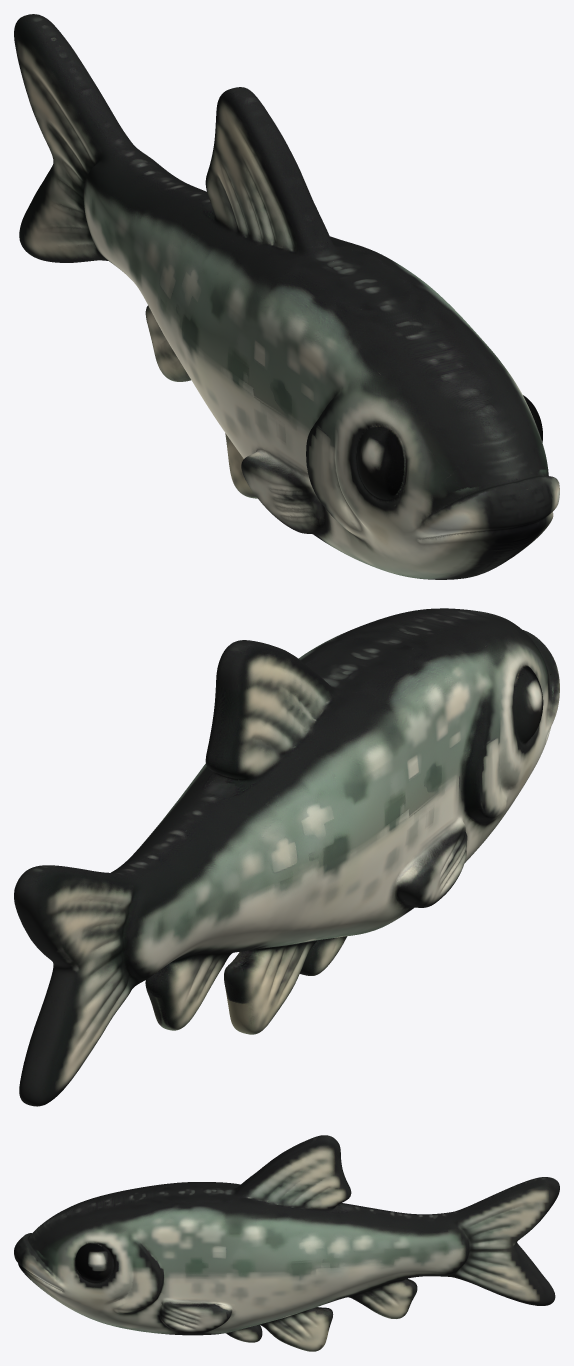
Rendered from Vairon.fbx.
3 renders of one model, top to bottom at view 1: azimuth 30°, elevation 25°; view 2: azimuth 150°, elevation 25°; view 3: azimuth 270°, elevation 25°, orthographic. The views are drawn at different scales.
Visible parts, largest first — view 1: Mesh_0; view 2: Mesh_0; view 3: Mesh_0.
Boxes of the visible parts, x1=… form: Mesh_0: x1=14, y1=14, x2=559, y2=579; Mesh_0: x1=14, y1=608, x2=559, y2=1106; Mesh_0: x1=14, y1=1135, x2=559, y2=1351.
Size of the model in its own units: 39.37 by 82.06 by 190.
1 material, 1 textured.
